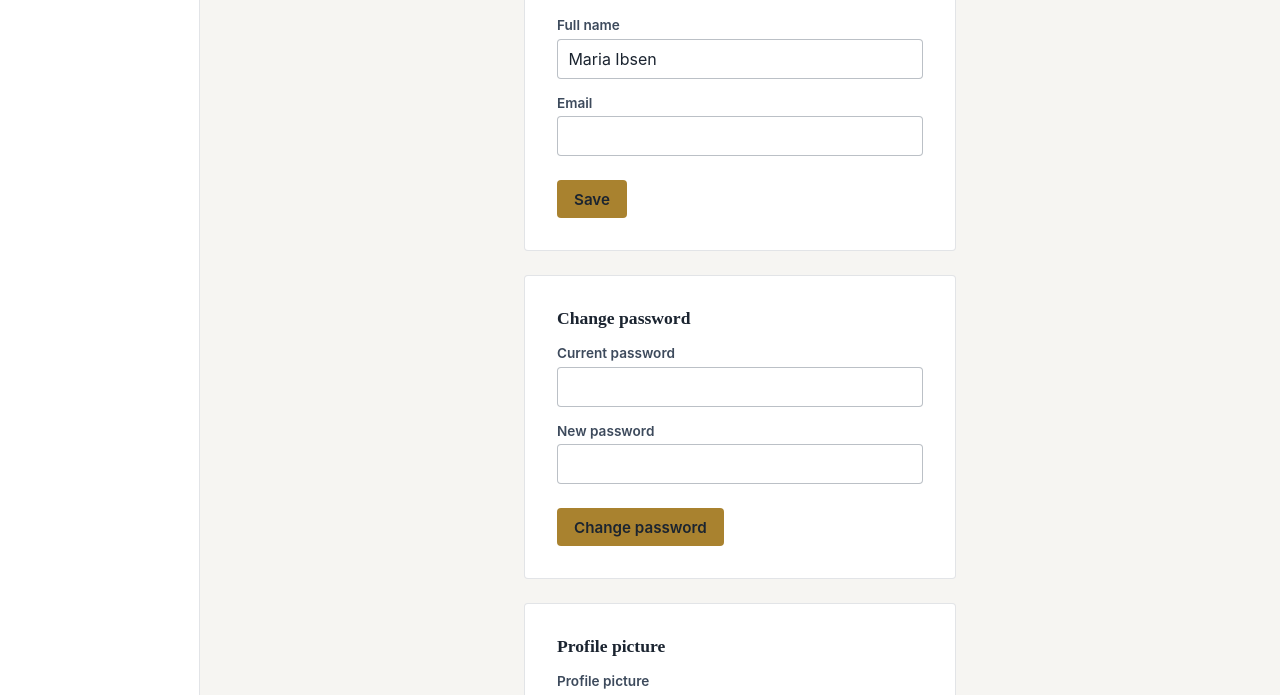
ProfilePage › changes password and shows a success message
(page scrolled)
Type "old-pass" into the password field labelled "Current password".
click(740, 387); type("old-pass")  # box [557,367,923,406]
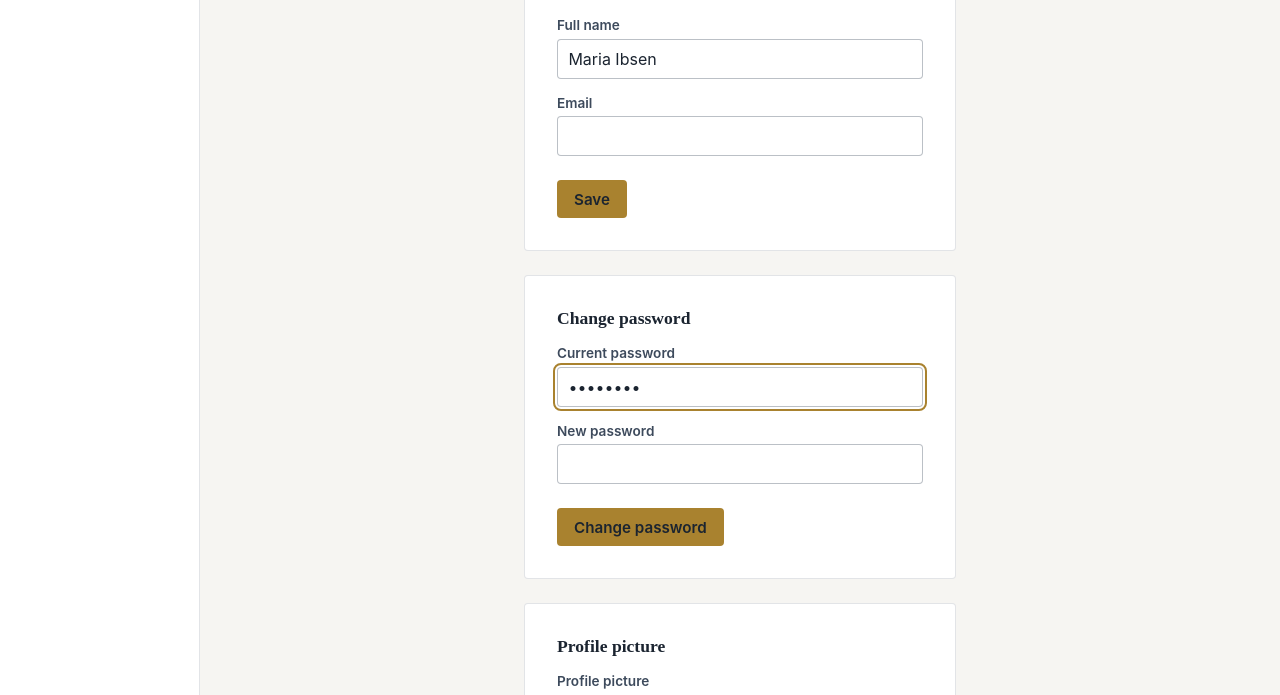
Type "a brand new password" into the password field labelled "New password".
click(740, 464); type("a brand new password")  # box [557,444,923,484]
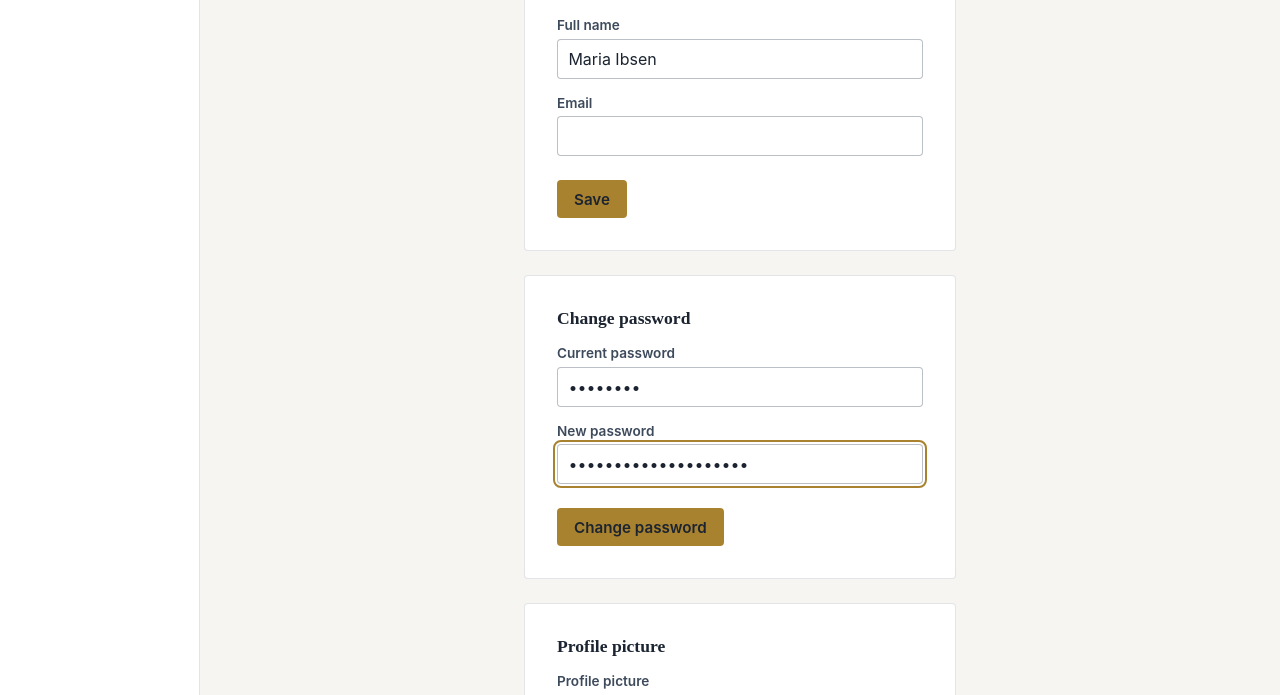
Click the button "Change password".
click(640, 527)  # box [557,508,724,546]
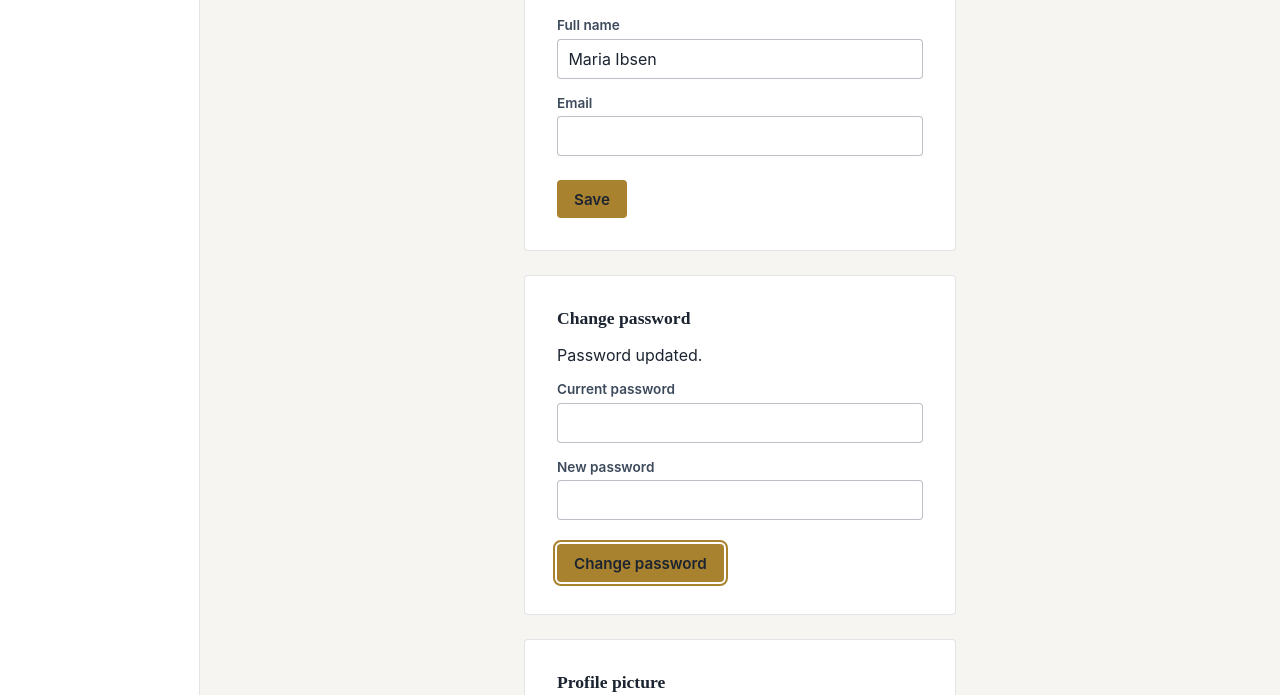
Result: the text "Password updated." is shown at [557,345,702,365]
